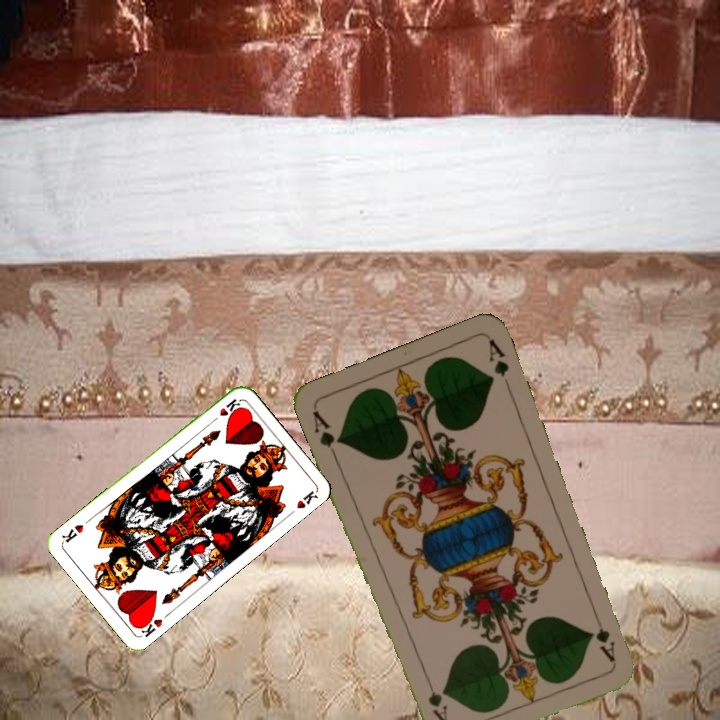GA: (308, 406, 344, 462), (589, 607, 618, 665)
HK: (207, 394, 243, 426), (133, 611, 165, 640)
